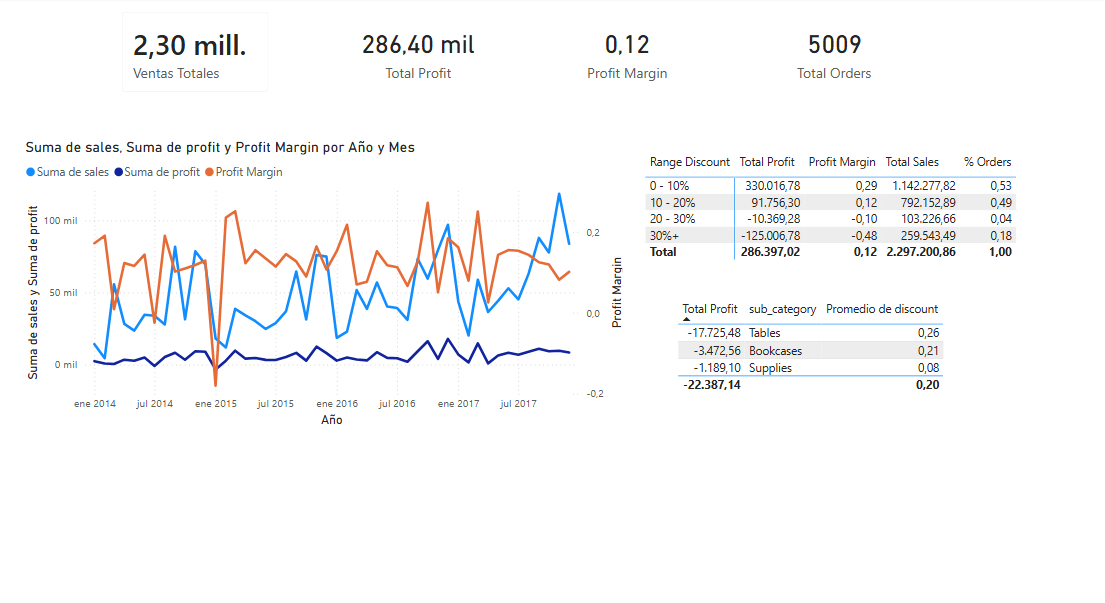

The page's visual inventory and layout, read from the dashboard file:
{"tool":"powerbi","page":{"name":"Over view","canvas":[1280,720],"ordinal":0},"visuals":[{"type":"cardVisual","fields":{"Data":["Medidas.Total Sales"]},"box":[124.4,0,204.7,127.6],"z":0},{"type":"card","fields":{"Values":["Medidas.Total Profit"]},"box":[380,0,208.8,127.5],"z":1000},{"type":"card","fields":{"Values":["Medidas.Profit Margin"]},"box":[621.2,0,208.8,127.5],"z":2000},{"type":"card","fields":{"Values":["Medidas.Total Orders"]},"box":[861.2,0,208.8,127.5],"z":3000},{"type":"lineChart","fields":{"Category":["fact_sales.order_date.Variación.Jerarquía de fechas.Año","fact_sales.order_date.Variación.Jerarquía de fechas.Mes"],"Y":["Sum(fact_sales.sales)","Sum(fact_sales.profit)"],"Y2":["Medidas.Profit Margin"]},"box":[24.3,163.2,701.5,339.2],"z":4000},{"type":"pivotTable","fields":{"Rows":["fact_sales.Range Discount"],"Values":["Medidas.Total Profit","Medidas.Profit Margin","Medidas.Total Sales","Medidas.% Orders"]},"box":[742,175.9,474.6,170.2],"z":5000},{"type":"tableEx","fields":{"Values":["Medidas.Total Profit","dim_product.sub_category","Avg(fact_sales.discount)"]},"box":[779,346.1,328.7,127.3],"z":6000}]}

Visuals, with their boxes on the page's 1280x720 design canvas (x1, y1, x2, y2). These are canvas units, not pixel positions in the 1105x603 screenshot, which may show the page scaled, cropped or inside an application window:
cardVisual - Medidas.Total Sales: [left=124, top=0, right=329, bottom=128]
card - Medidas.Total Profit: [left=380, top=0, right=589, bottom=128]
card - Medidas.Profit Margin: [left=621, top=0, right=830, bottom=128]
card - Medidas.Total Orders: [left=861, top=0, right=1070, bottom=128]
lineChart - fact_sales.order_date.Variación.Jerarquía de fechas.Año x fact_sales.order_date.Variación.Jerarquía de fechas.Mes: [left=24, top=163, right=726, bottom=502]
pivotTable - fact_sales.Range Discount x Medidas.Total Profit: [left=742, top=176, right=1217, bottom=346]
tableEx - Medidas.Total Profit x dim_product.sub_category: [left=779, top=346, right=1108, bottom=473]
